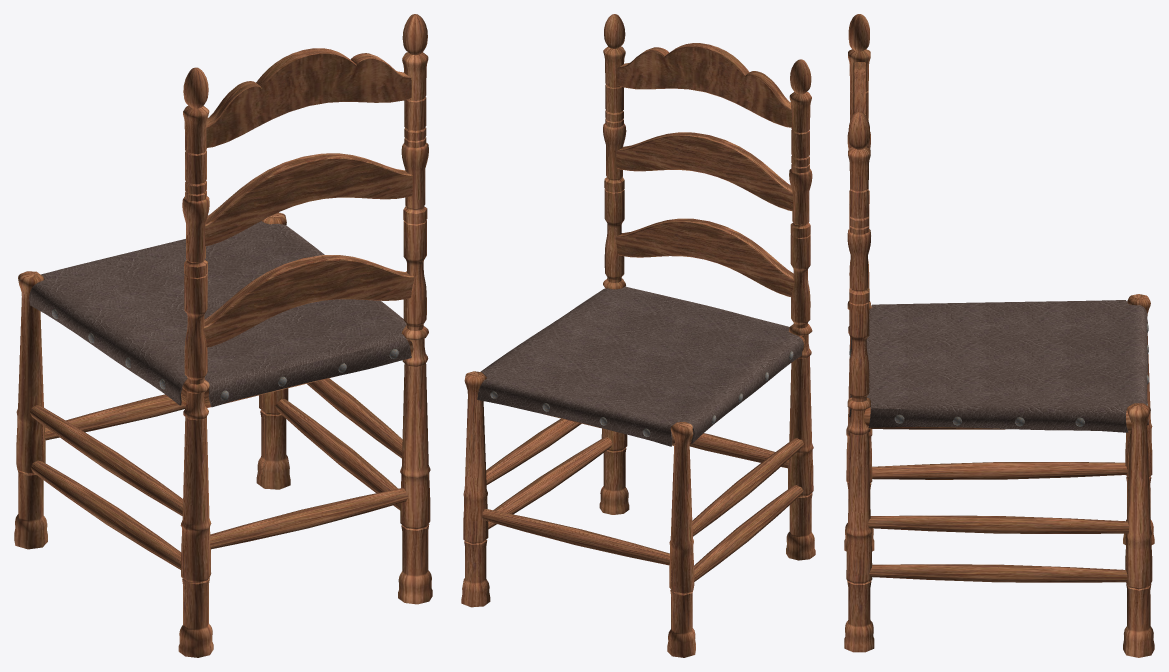
Rendered from chair3_low.obj.
The picture shows the model from 3 angles, left to right: view 1: azimuth 30°, elevation 25°; view 2: azimuth 150°, elevation 25°; view 3: azimuth 270°, elevation 25°; orthographic projection. The views are drawn at different scales.
Parts seen in each view (by area): view 1: chair3; view 2: chair3; view 3: chair3.
Part boxes in pixels (x1,y1,x2,y2): chair3: (14, 14, 432, 657); chair3: (461, 14, 815, 657); chair3: (844, 14, 1154, 657).
Size of the model in its own units: 0.5699 by 1.16 by 0.6095.
Materials: 3 (3 with a texture image).
